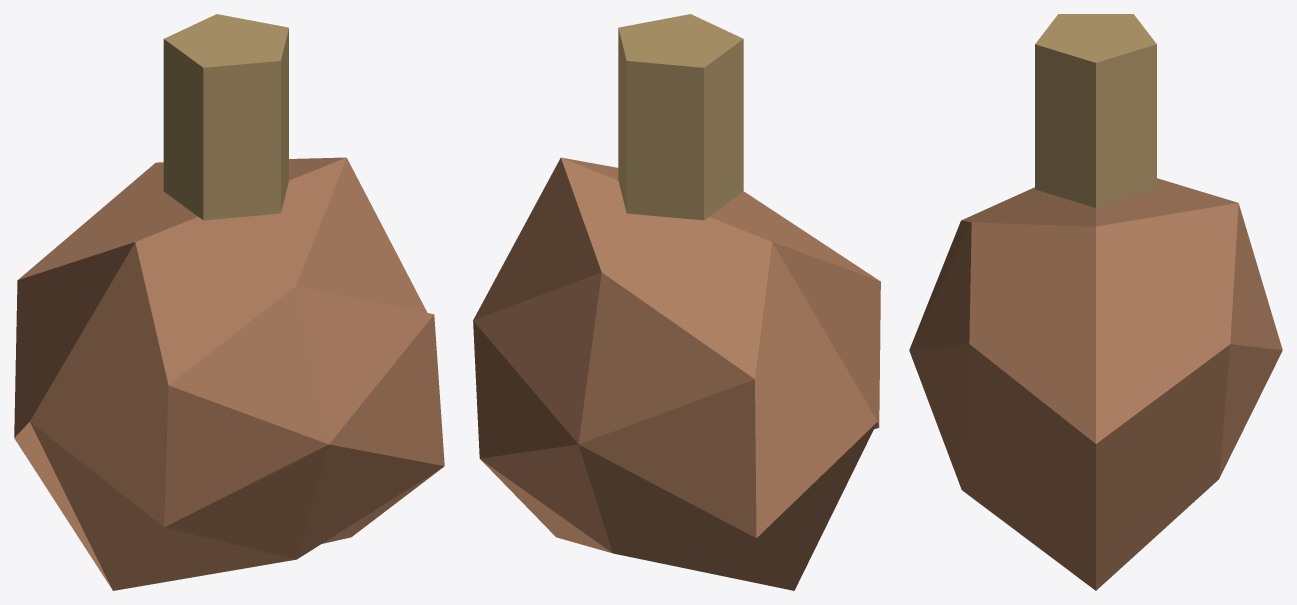
The model's file is SM_Prop_Bag_01.glb.
The picture shows the model from 3 angles, left to right: view 1: azimuth 30°, elevation 25°; view 2: azimuth 150°, elevation 25°; view 3: azimuth 270°, elevation 25°; orthographic projection. The views are drawn at different scales.
Parts seen in each view (by area): view 1: SM_Prop_Bag_01; view 2: SM_Prop_Bag_01; view 3: SM_Prop_Bag_01.
Boxes of the visible parts, x1,y1,x2,y2 form: SM_Prop_Bag_01: (14, 14, 444, 590); SM_Prop_Bag_01: (473, 14, 880, 590); SM_Prop_Bag_01: (909, 14, 1282, 590).
Bounding box in the file's own units: 0.0829 × 0.1032 × 0.07.
1 material, 1 textured.
